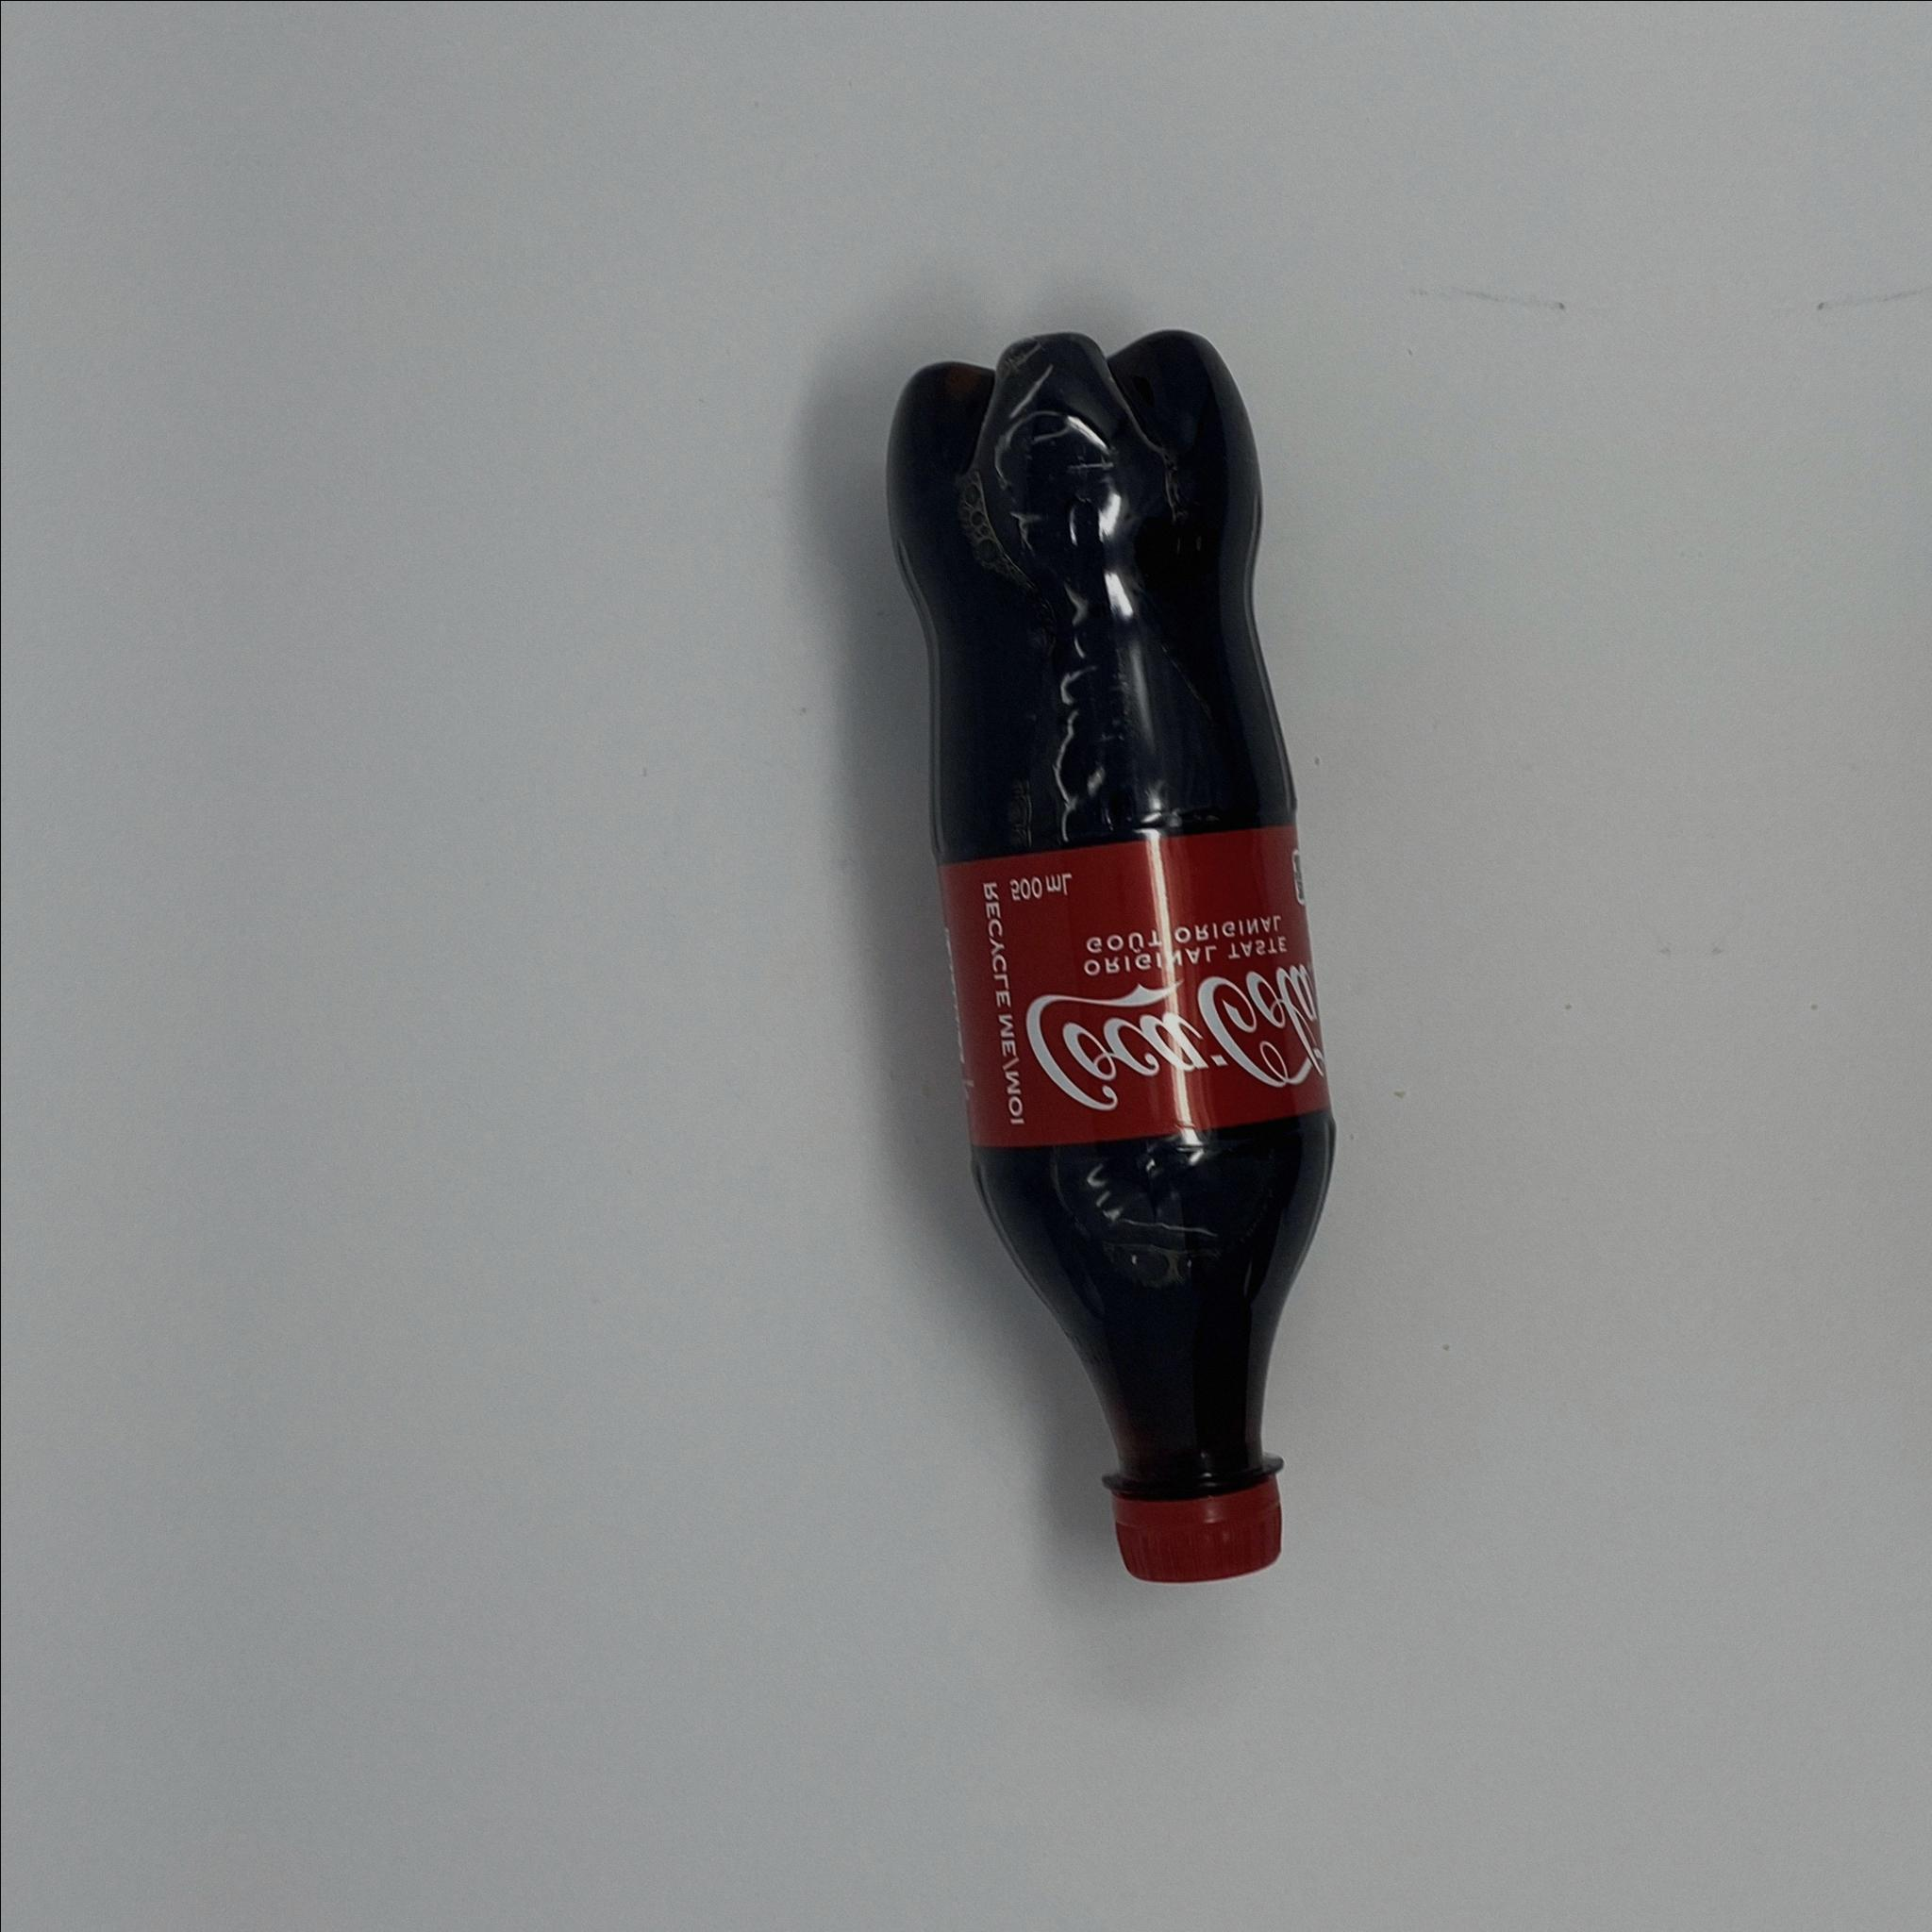PET: (883, 329, 1334, 1587)
cocacola: (883, 329, 1334, 1587)
plastic: (883, 329, 1334, 1587)
soft-drink: (883, 329, 1334, 1587)
